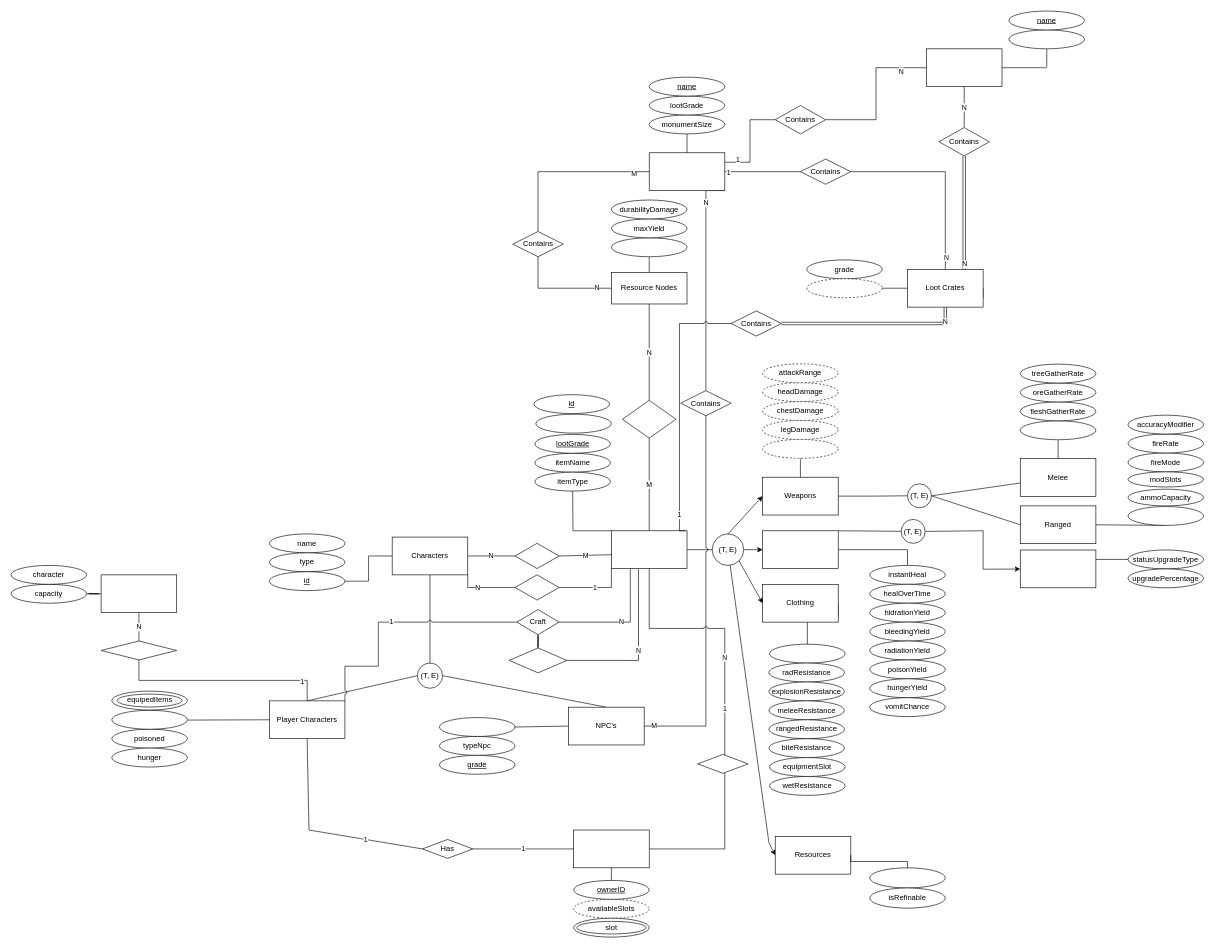
Image size: 1215x948. Some labels were removed from this diagram. Here are the shapes that lost their labels. From the top down, the box of each, then its label:
(1008, 29, 1085, 49): combat_enemy
(926, 48, 1002, 87): Structures
(649, 152, 725, 191): Monuments
(611, 237, 687, 257): nodeType
(806, 278, 882, 298): item_quantity
(535, 414, 611, 433): maxStackSize
(622, 400, 676, 438): generate
(1020, 420, 1096, 440): canBeThrown
(762, 439, 838, 458): armsDamage
(1127, 506, 1204, 525): recoil
(514, 543, 559, 569): Drop
(611, 530, 687, 569): Items
(762, 530, 838, 569): Consumables
(1020, 549, 1096, 588): Teas
(100, 574, 177, 613): Party
(514, 574, 559, 600): use
(100, 640, 177, 660): composed of
(508, 647, 567, 673): generates
(769, 644, 845, 663): coldResistance
(111, 710, 187, 729): hydration
(439, 717, 515, 736): isAgressive
(697, 754, 748, 773): Stores
(573, 829, 649, 868): Backpack
(869, 867, 945, 888): isPrimary
